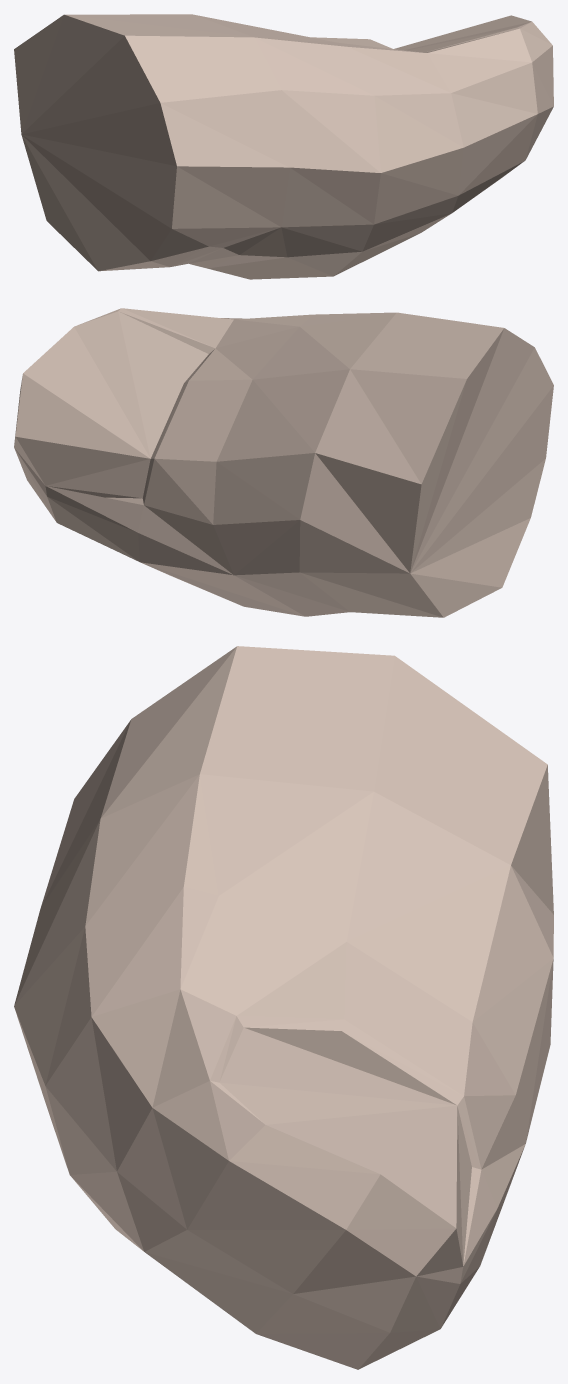
Rendered from RThumb2ndPhalange.dae.
3 renders of one model, top to bottom at view 1: azimuth 30°, elevation 25°; view 2: azimuth 150°, elevation 25°; view 3: azimuth 270°, elevation 25°, orthographic. The views are drawn at different scales.
Visible parts, largest first — view 1: ShapeIndexedFaceSet; view 2: ShapeIndexedFaceSet; view 3: ShapeIndexedFaceSet.
Part boxes in pixels (left/top/right/bottom): ShapeIndexedFaceSet: left=14, top=14, right=553, bottom=279; ShapeIndexedFaceSet: left=14, top=308, right=553, bottom=617; ShapeIndexedFaceSet: left=14, top=646, right=553, bottom=1369.
Size of the model in its own units: 0.0332 by 0.021 by 0.0201.
